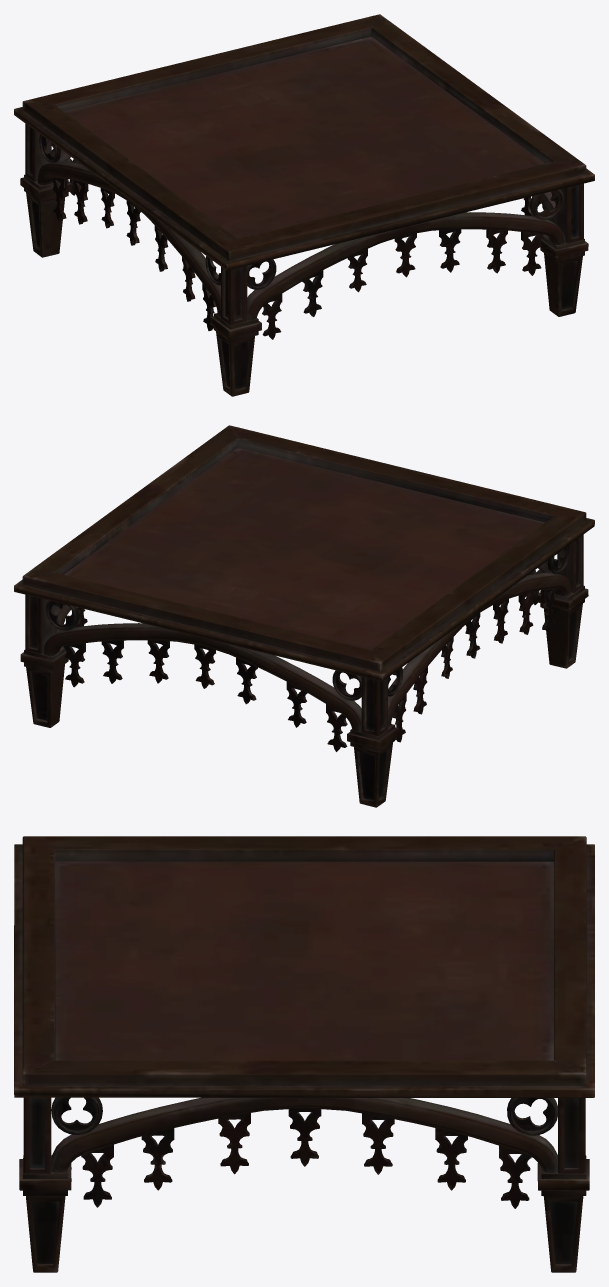
The model's file is gothic_coffee_table.glb.
3 renders of one model, top to bottom at view 1: azimuth 30°, elevation 25°; view 2: azimuth 150°, elevation 25°; view 3: azimuth 270°, elevation 25°, orthographic. The views are drawn at different scales.
Parts seen in each view (by area): view 1: gothic_coffee_table; view 2: gothic_coffee_table; view 3: gothic_coffee_table.
Part boxes in pixels (bbox=[...]): gothic_coffee_table: bbox=[14, 14, 594, 396]; gothic_coffee_table: bbox=[14, 425, 594, 807]; gothic_coffee_table: bbox=[14, 836, 594, 1272].
Size of the model in its own units: 1.44 by 0.5587 by 1.44.
1 material, 1 textured.
